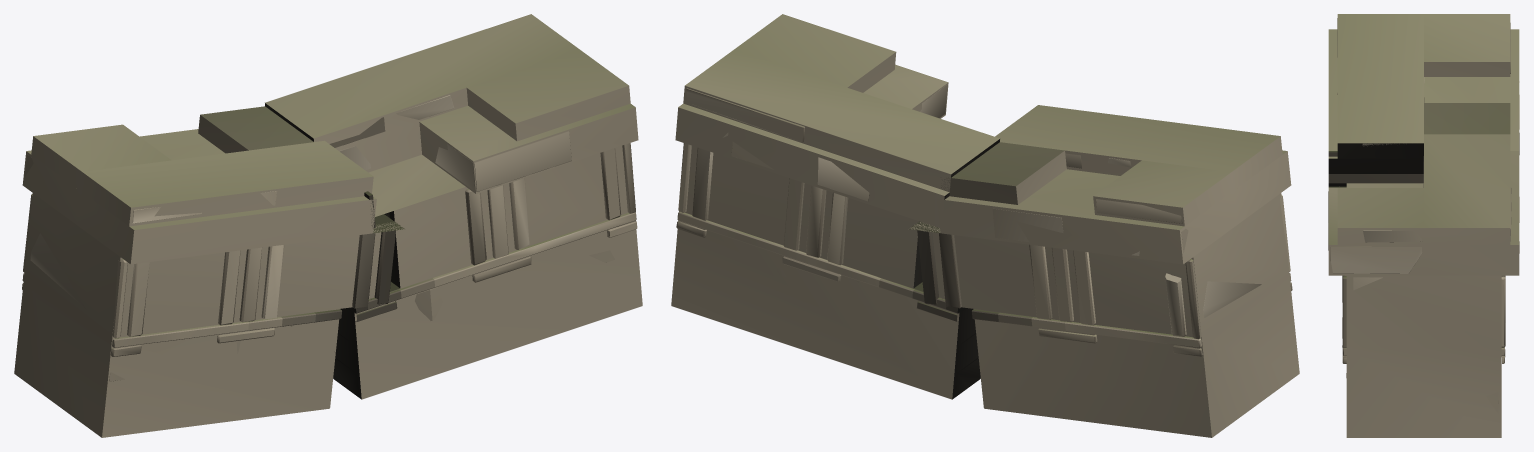
Rendered from agora_lintel_cracked.glb.
3 renders of one model, left to right at view 1: azimuth 30°, elevation 25°; view 2: azimuth 150°, elevation 25°; view 3: azimuth 270°, elevation 25°, orthographic. The views are drawn at different scales.
Visible parts, largest first — view 1: agora_lintel_cracked_far, agora_lintel_cracked; view 2: agora_lintel_cracked_far, agora_lintel_cracked; view 3: agora_lintel_cracked_far, agora_lintel_cracked.
Part boxes in pixels (box(x1,y1,x2,y2)): agora_lintel_cracked_far: box(14, 14, 642, 437); agora_lintel_cracked: box(22, 95, 637, 396); agora_lintel_cracked_far: box(671, 14, 1299, 437); agora_lintel_cracked: box(676, 84, 1292, 396); agora_lintel_cracked_far: box(1328, 14, 1519, 437); agora_lintel_cracked: box(1328, 18, 1519, 413).
Size of the model in its own units: 18.5 by 8.33 by 6.43.
